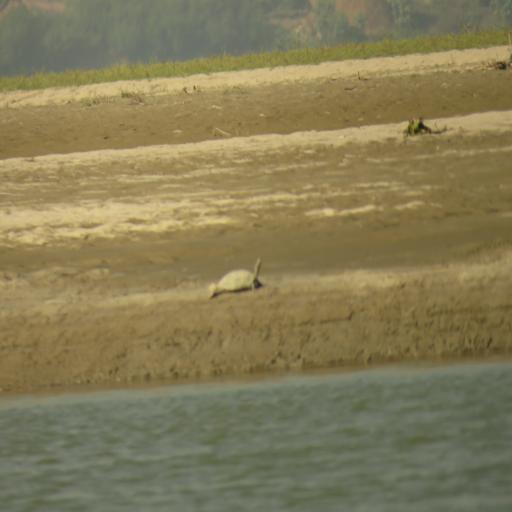turtle: (208, 248, 264, 299)
